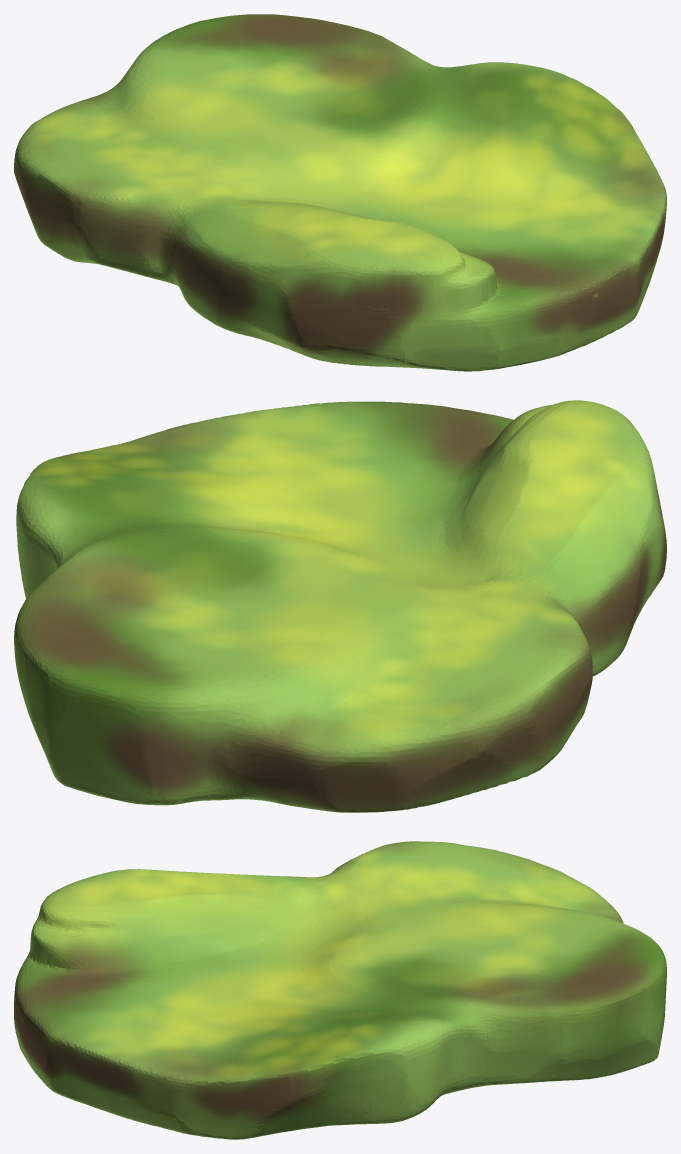
File: Island 1.fbx
3 renders of one model, top to bottom at view 1: azimuth 30°, elevation 25°; view 2: azimuth 150°, elevation 25°; view 3: azimuth 270°, elevation 25°, orthographic. The views are drawn at different scales.
Visible parts, largest first — view 1: O.002_Baked; view 2: O.002_Baked; view 3: O.002_Baked.
Part boxes in pixels (x1,y1,x2,y2): O.002_Baked: (14,14,666,371); O.002_Baked: (14,400,666,812); O.002_Baked: (14,841,666,1139).
Size of the model in its own units: 113 by 25.95 by 137.
